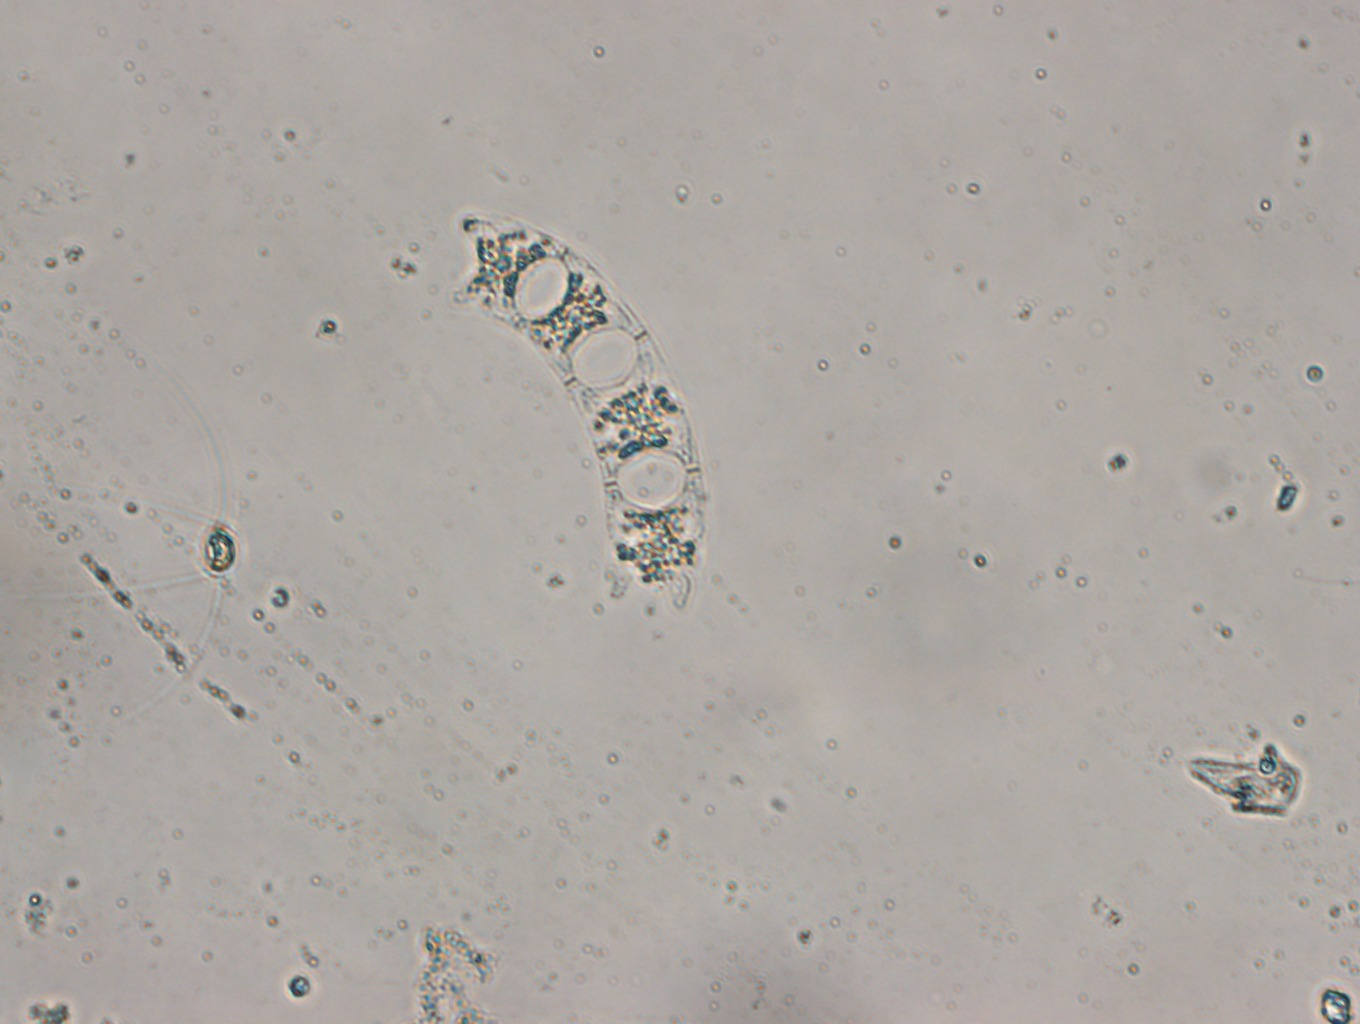eucampia: (448, 208, 706, 622)
